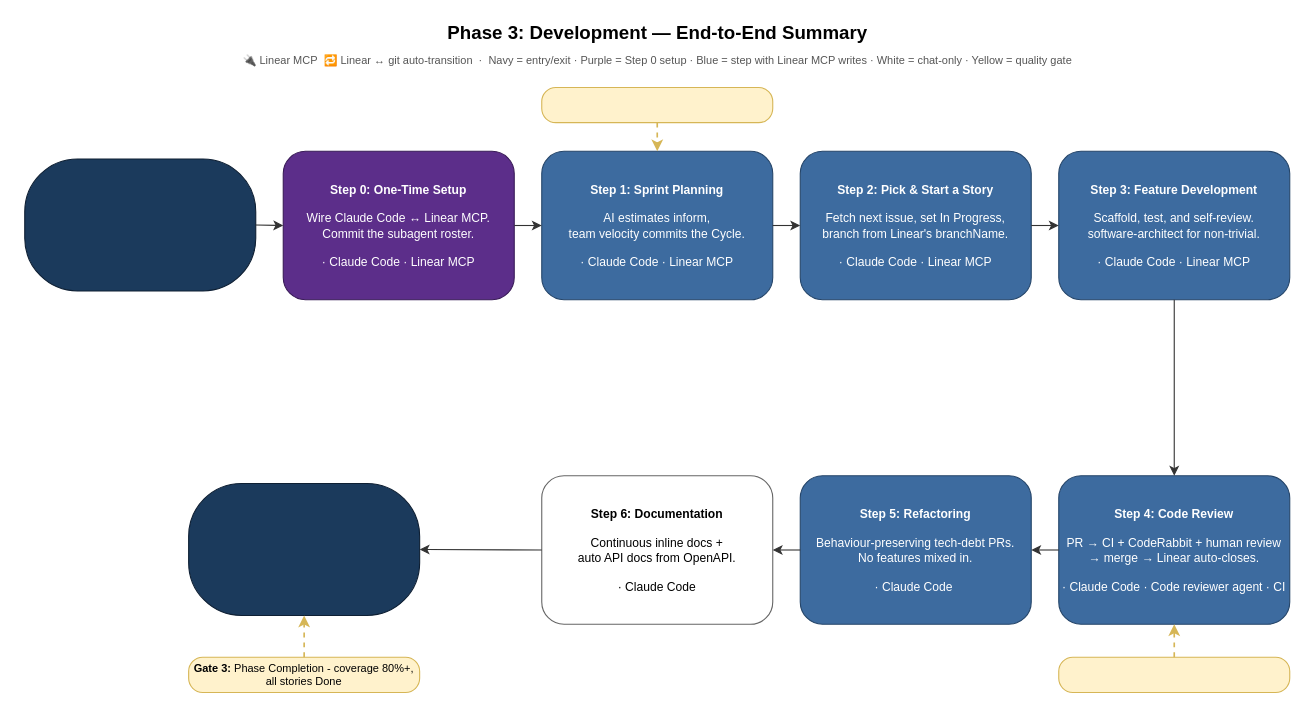
This 1313x712 diagram has some shape labels left out. The shapes that lost their labels are listed below. From the top down, each one's box as (x1, y1, x2, y2) in pixels, then its label:
(541, 86, 773, 123): Gate 1: Sprint Commitment - AC, estimate, owner per story
(24, 158, 256, 291): Phase 3 Entry From Phase 2: ADRs + OpenAPI + wireframes + accepted backlog
(188, 482, 420, 615): ← Phase 4: Testing & QA Merged code + 80%+ coverage + retro filed
(1058, 656, 1290, 692): Gate 2: PR Merge - CI + AI reviewer + human (per PR)
